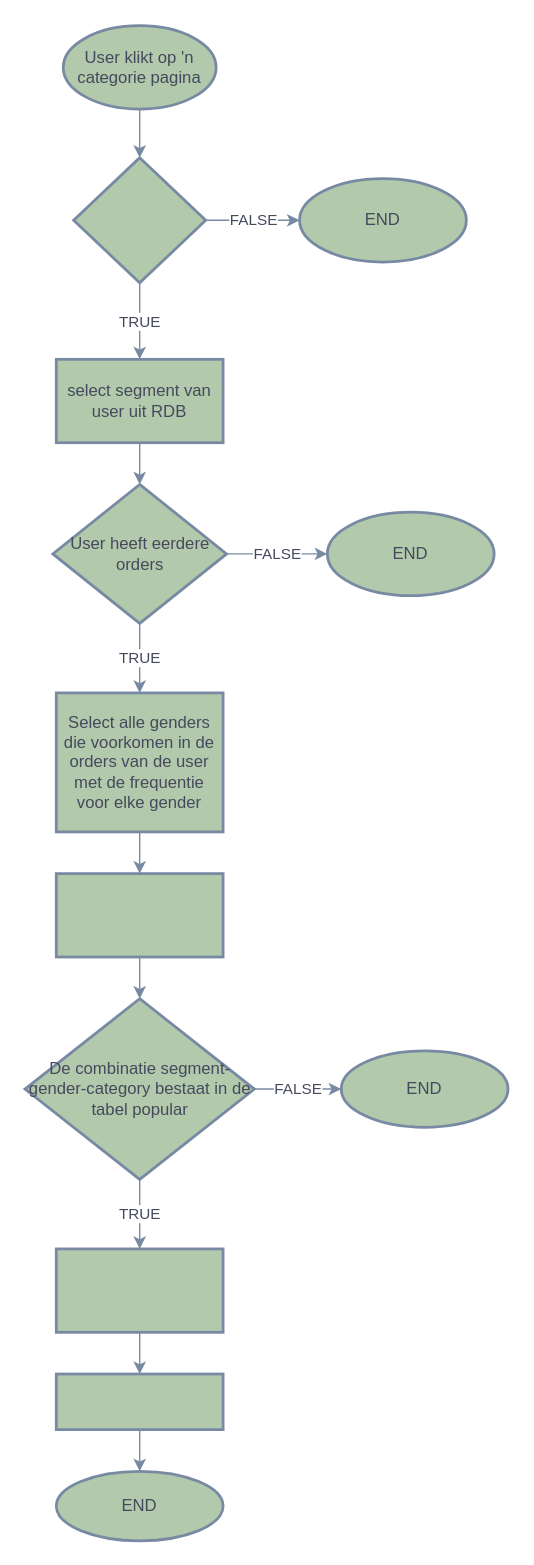
This 534x1565 diagram has some shape labels left out. The box of each missing label's shape, as (x1, y1, x2, y2) in pixels:
Return productid's: (54, 1372, 224, 1430)
Select de productid's die horen bij de combi segment-gender-category: (54, 1247, 224, 1333)
Select het gender dat het meest voorkomt: (54, 872, 224, 958)
User is bekend: (72, 156, 206, 284)
